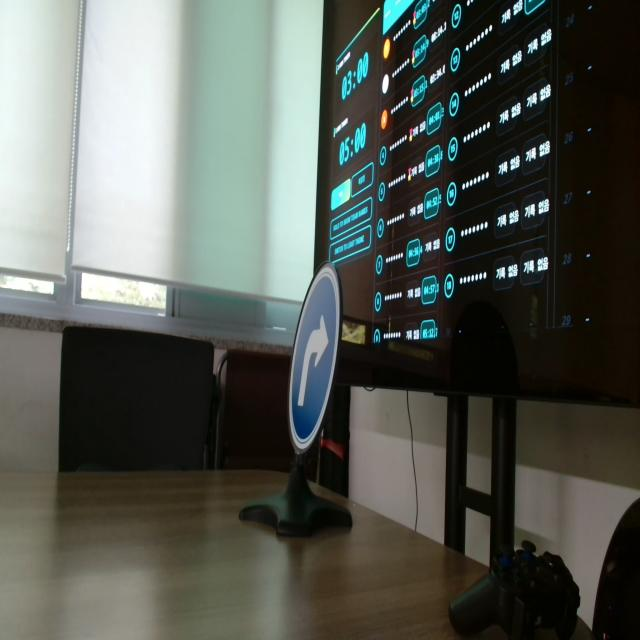right_dierection: (288, 260, 340, 455)
